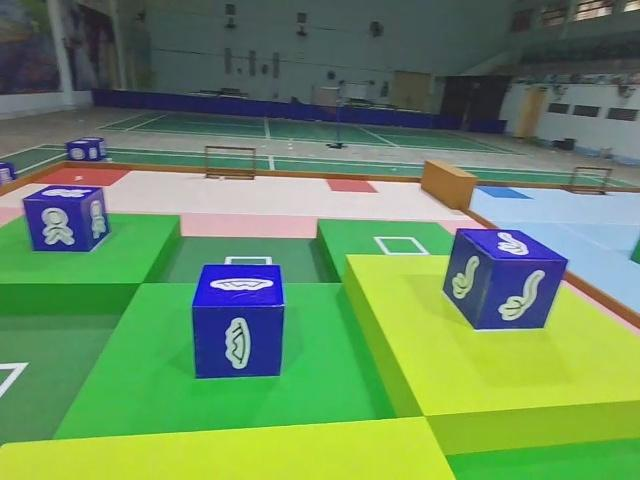R2 Real Blue: (441, 229, 567, 333), (188, 266, 286, 382), (22, 185, 111, 254)
